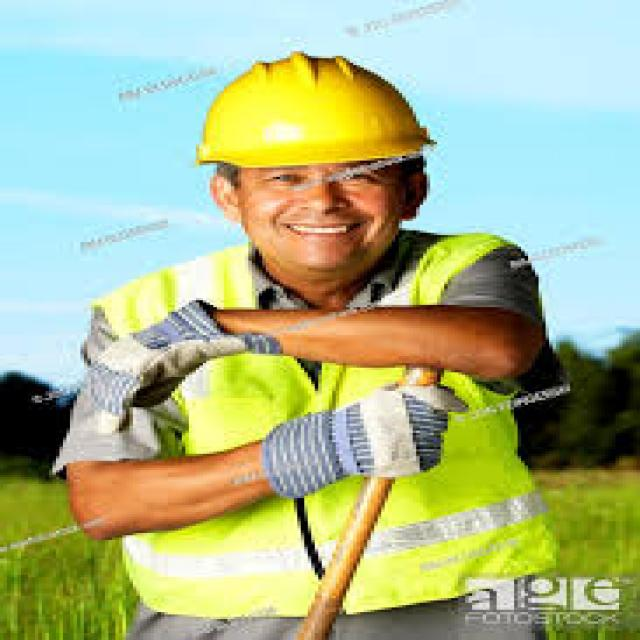Reflective-Jacket: (102, 240, 552, 626)
Safety-Helmet: (189, 51, 441, 182)
